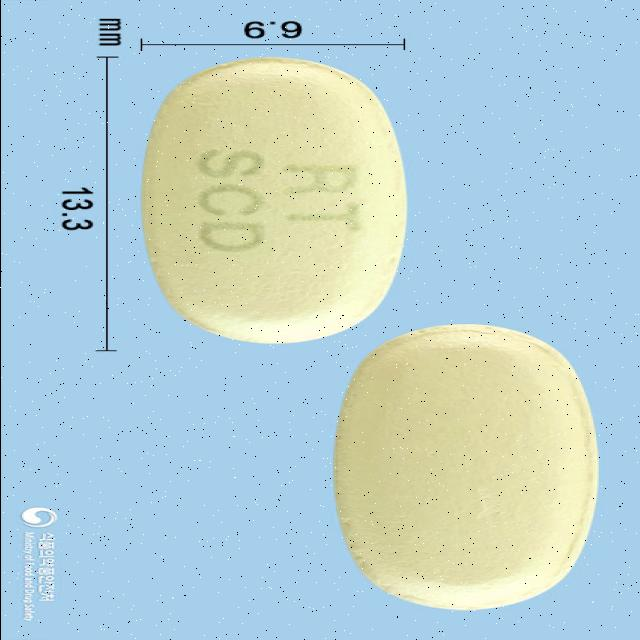Retos Tab: (146, 56, 408, 344)
